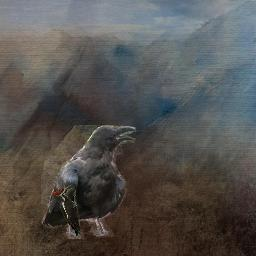Crow: (41, 125, 136, 239)
Woodpecker: (52, 184, 80, 236)
